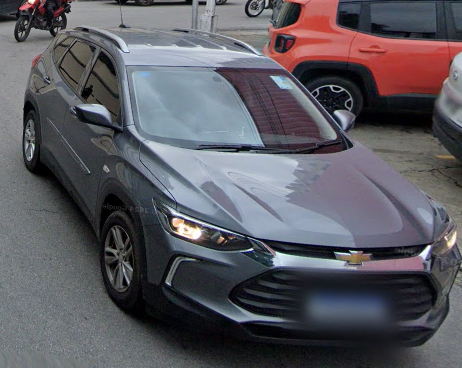car: (21, 25, 459, 349)
